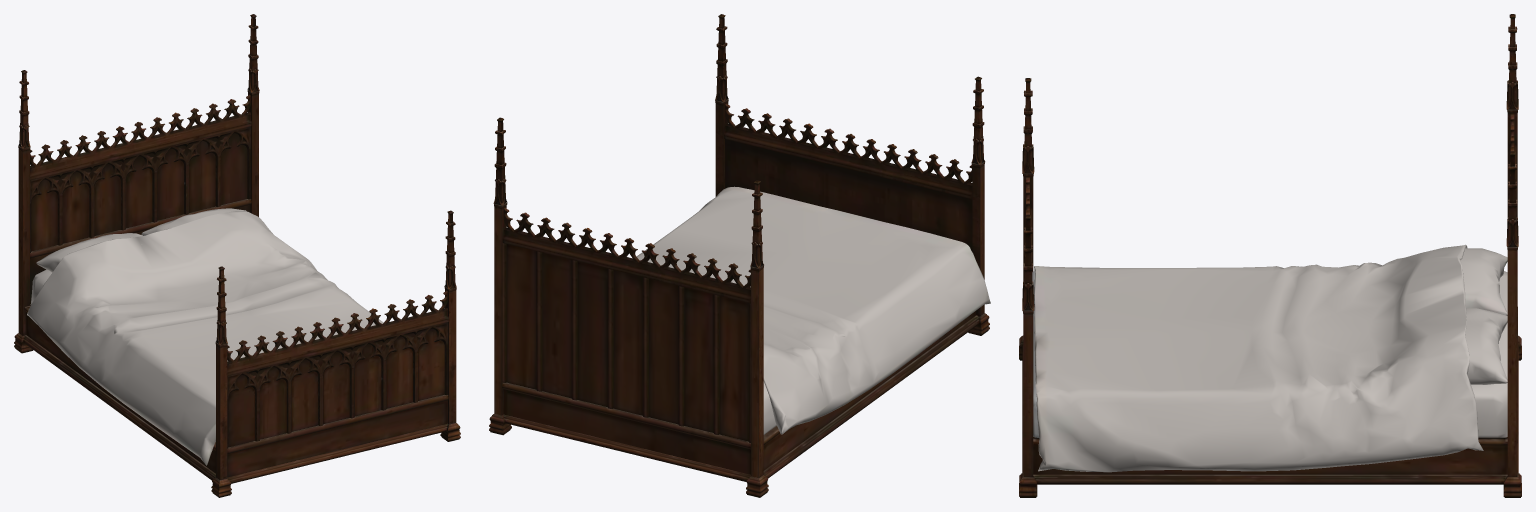
Rendered from bed.glb.
The picture shows the model from 3 angles, left to right: view 1: azimuth 30°, elevation 25°; view 2: azimuth 150°, elevation 25°; view 3: azimuth 270°, elevation 25°; orthographic projection. The views are drawn at different scales.
Parts seen in each view (by area): view 1: GothicBed_01; view 2: GothicBed_01; view 3: GothicBed_01.
Part boxes in pixels (box(x1,y1,x2,y2)): GothicBed_01: box(14, 14, 460, 497); GothicBed_01: box(489, 14, 990, 497); GothicBed_01: box(1019, 14, 1521, 497).
Bounding box in the file's own units: 1.49 × 1.53 × 2.04.
1 material, 1 textured.
